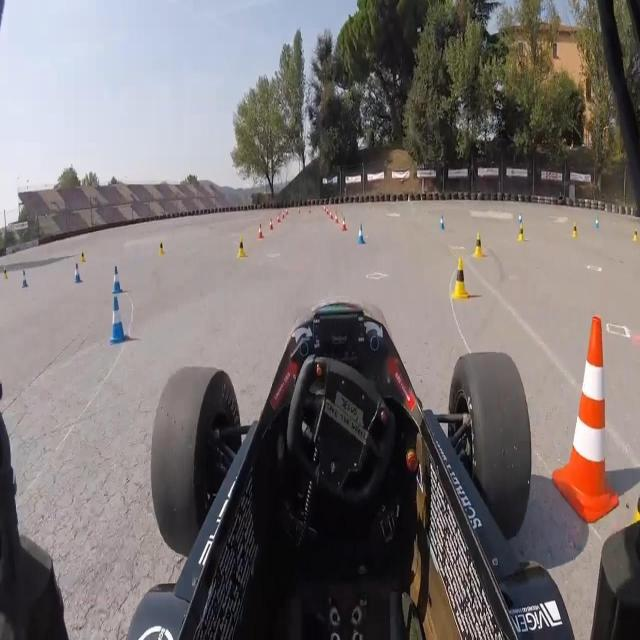blue_cone: (110, 292, 130, 346), (109, 262, 125, 296), (355, 220, 367, 247), (20, 267, 30, 289), (593, 212, 602, 235), (73, 262, 82, 285), (438, 212, 448, 232), (518, 212, 525, 228)
large_orange_cone: (553, 310, 624, 534)
orange_cone: (257, 222, 266, 241), (341, 215, 348, 233), (268, 217, 274, 231), (334, 210, 340, 224), (277, 211, 282, 225), (329, 208, 334, 222), (281, 209, 286, 220), (326, 205, 330, 218)
yellow_cone: (449, 254, 470, 302), (631, 463, 640, 534), (472, 230, 485, 262), (236, 236, 250, 262), (516, 221, 525, 244), (78, 247, 88, 264), (632, 225, 640, 246), (158, 240, 166, 257), (572, 220, 579, 238)
